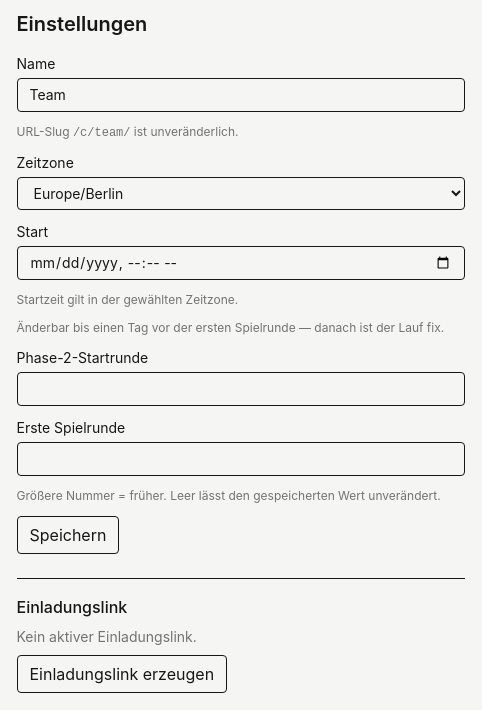
Test: settings page › generates an invite link and shows it
Click the button with test id "generate-invite" at (122, 674), box [16,655,227,693]
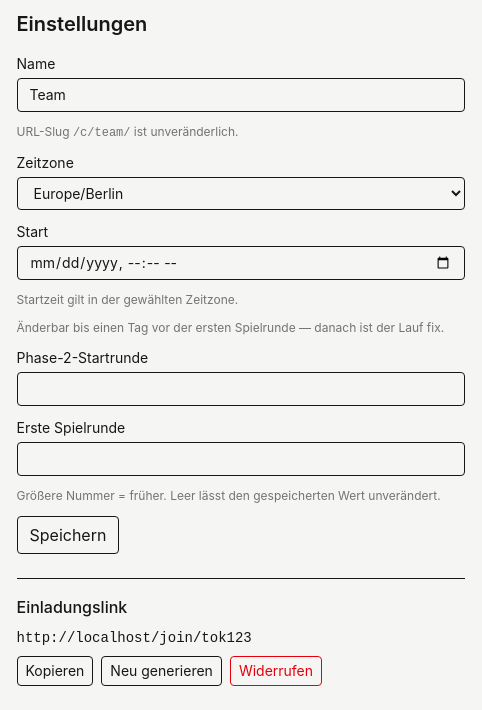
Expected: the text "/join/tok123" is shown, [16,630,252,646]
